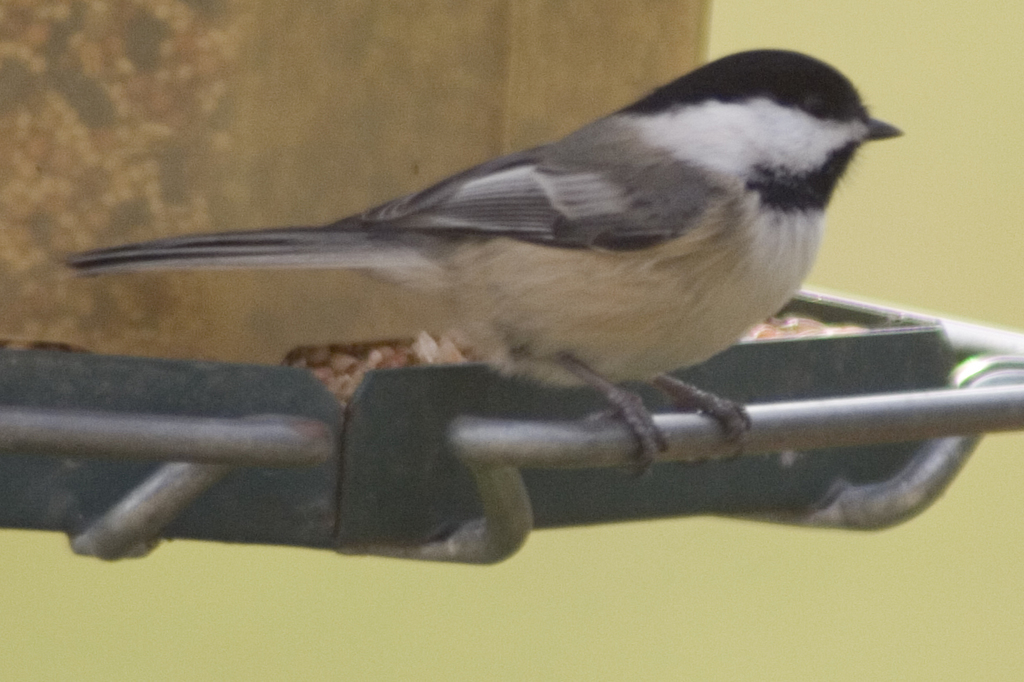Bird: (65, 48, 905, 480)
